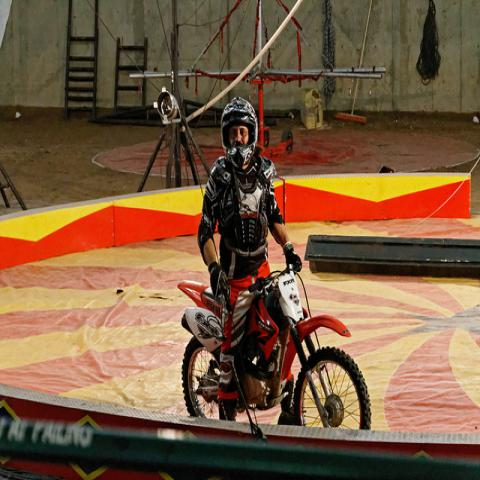motorcycle: (177, 262, 373, 433)
